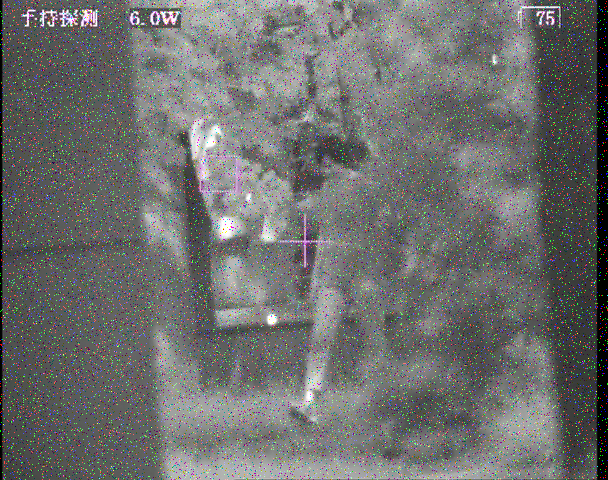my: (265, 312, 278, 327)
